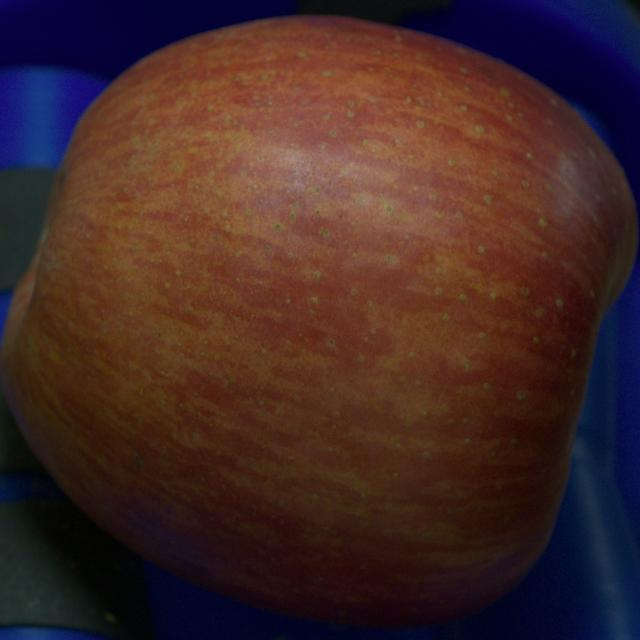apple: (0, 16, 638, 626)
